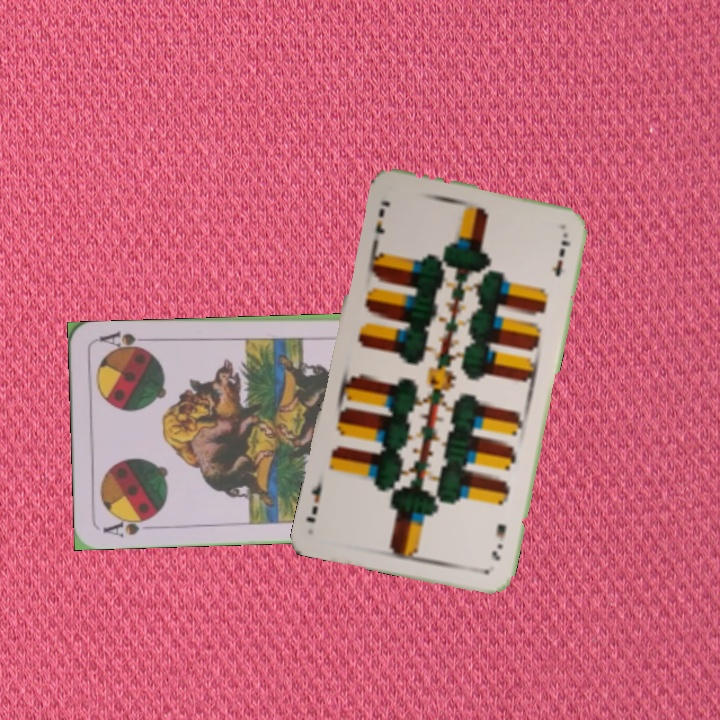E7: (488, 520, 510, 563), (371, 196, 393, 237)
SA: (99, 512, 158, 540)
